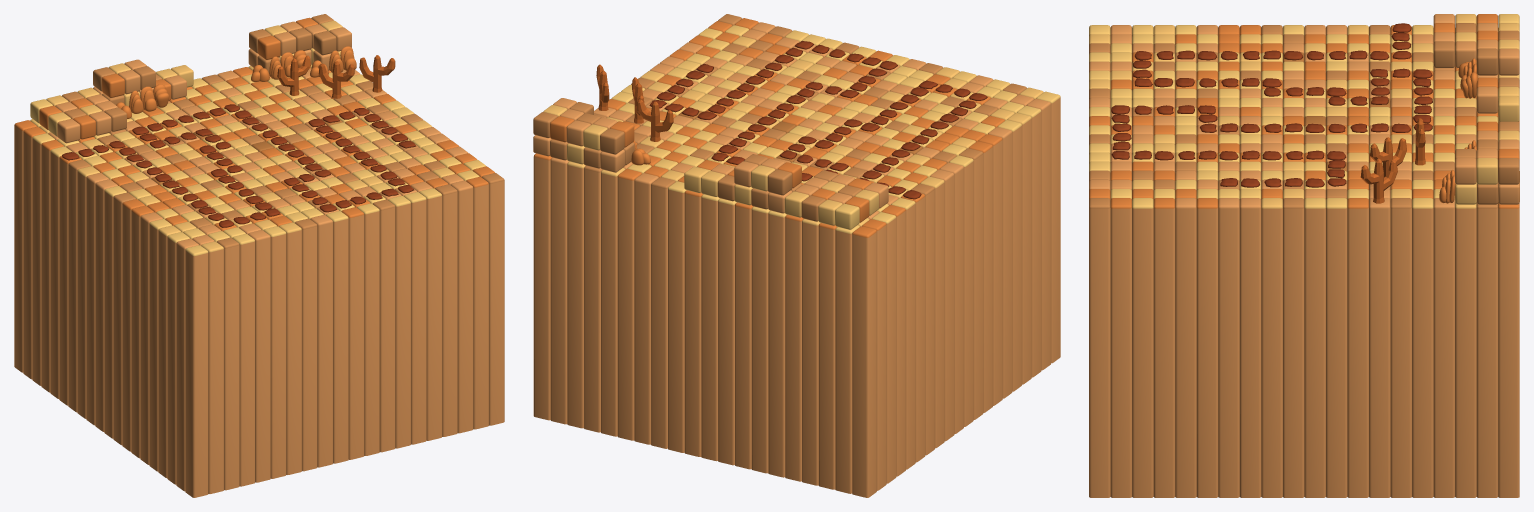
The model's file is sadajd.fbx.
The picture shows the model from 3 angles, left to right: view 1: azimuth 30°, elevation 25°; view 2: azimuth 150°, elevation 25°; view 3: azimuth 270°, elevation 25°; orthographic projection. The views are drawn at different scales.
Parts seen in each view (by area): view 1: desert ground1.140, desert ground10.108, desert ground1.128, desert ground13.109, desert ground7.062, desert ground1.069, desert ground7.068, desert ground10.125, desert ground7.075, desert ground7.087, desert ground1.137, desert ground10.145 (+30 smaller); view 2: desert ground13.150, desert ground13.077, desert ground1.110, desert ground1.104, desert ground13.145, desert ground10.067, desert ground13.091, desert ground1.077, desert ground13.071, desert ground10.070, desert ground7.044, desert ground1.025 (+28 smaller); view 3: desert ground13.120, desert ground10.092, desert ground13.114, desert ground7.037, desert ground2.066, desert ground10.109, desert ground10.110, desert ground1.011, desert ground1.021, desert ground13.098, desert ground1.071, desert ground7.068 (+19 smaller).
Part boxes in pixels (x1,y1,x2,y2): desert ground1.140: (185,245,208,497); desert ground10.108: (450,180,473,433); desert ground1.128: (263,226,286,478); desert ground13.109: (341,207,364,459); desert ground7.062: (373,199,395,452); desert ground1.069: (419,188,442,440); desert ground7.068: (481,173,504,425); desert ground10.125: (310,215,332,467); desert ground7.075: (295,218,317,471); desert ground7.087: (217,237,239,490); desert ground1.137: (232,234,254,486); desert ground10.145: (248,230,270,482); desert ground13.150: (852,226,876,497); desert ground13.077: (617,169,641,440); desert ground1.110: (835,225,859,493); desert ground1.104: (768,210,786,477); desert ground13.145: (818,223,837,489); desert ground10.067: (550,157,569,424); desert ground13.091: (684,190,703,456); desert ground1.077: (751,206,770,473); desert ground13.071: (533,153,552,420); desert ground10.070: (634,173,658,444); desert ground7.044: (651,177,675,448); desert ground1.025: (668,181,686,452); desert ground13.120: (1196,198,1218,497); desert ground10.092: (1239,198,1261,497); desert ground13.114: (1153,198,1175,497); desert ground7.037: (1476,202,1498,497); desert ground2.066: (1261,198,1282,497); desert ground10.109: (1218,198,1239,497); desert ground10.110: (1175,198,1196,497); desert ground1.011: (1412,198,1433,497); desert ground1.021: (1304,198,1325,497); desert ground13.098: (1347,198,1368,497); desert ground1.071: (1132,198,1153,497); desert ground7.068: (1089,198,1110,497).
Size of the model in its own units: 2030 by 1715 by 2001.
